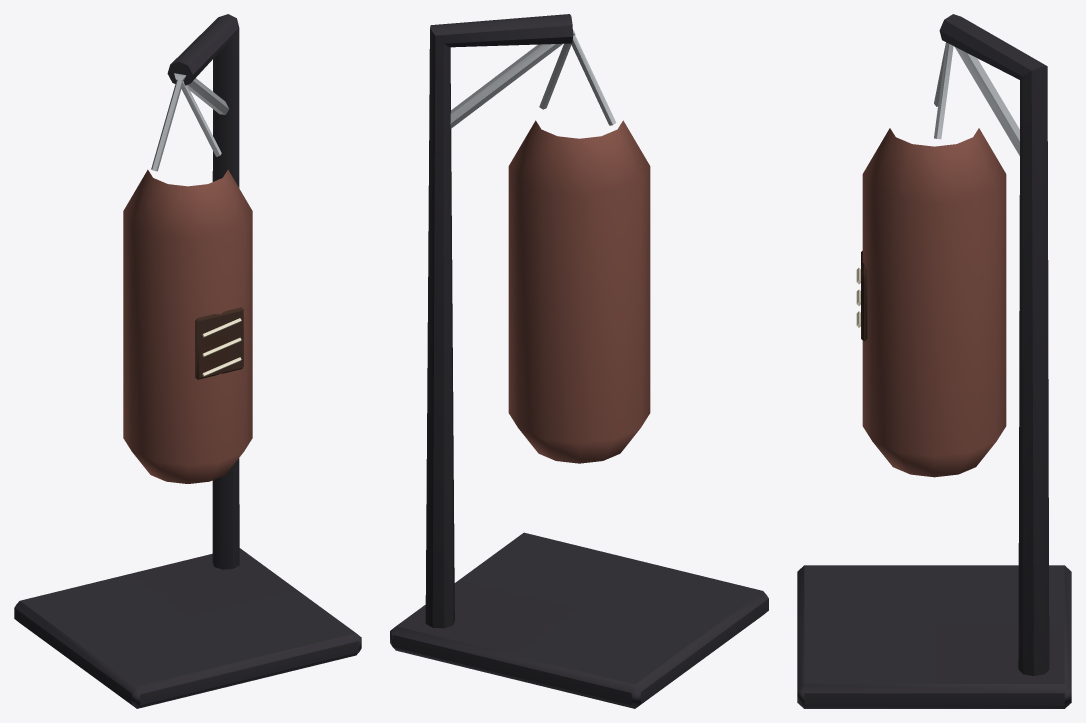
File: bag_punching.glb
3 views of the same model, side by side, from view 1: azimuth 30°, elevation 25°; view 2: azimuth 150°, elevation 25°; view 3: azimuth 270°, elevation 25° (orthographic). The views are drawn at different scales.
Parts seen in each view (by area): view 1: bag_punching, bag; view 2: bag_punching, bag; view 3: bag_punching, bag.
Boxes of the visible parts, x1,y1,x2,y2 form: bag_punching: (14, 14, 361, 708); bag: (123, 169, 252, 483); bag_punching: (390, 14, 768, 708); bag: (508, 120, 650, 463); bag_punching: (797, 14, 1071, 708); bag: (856, 128, 1006, 477).
Size of the model in its own units: 0.86 by 2.04 by 0.8.
